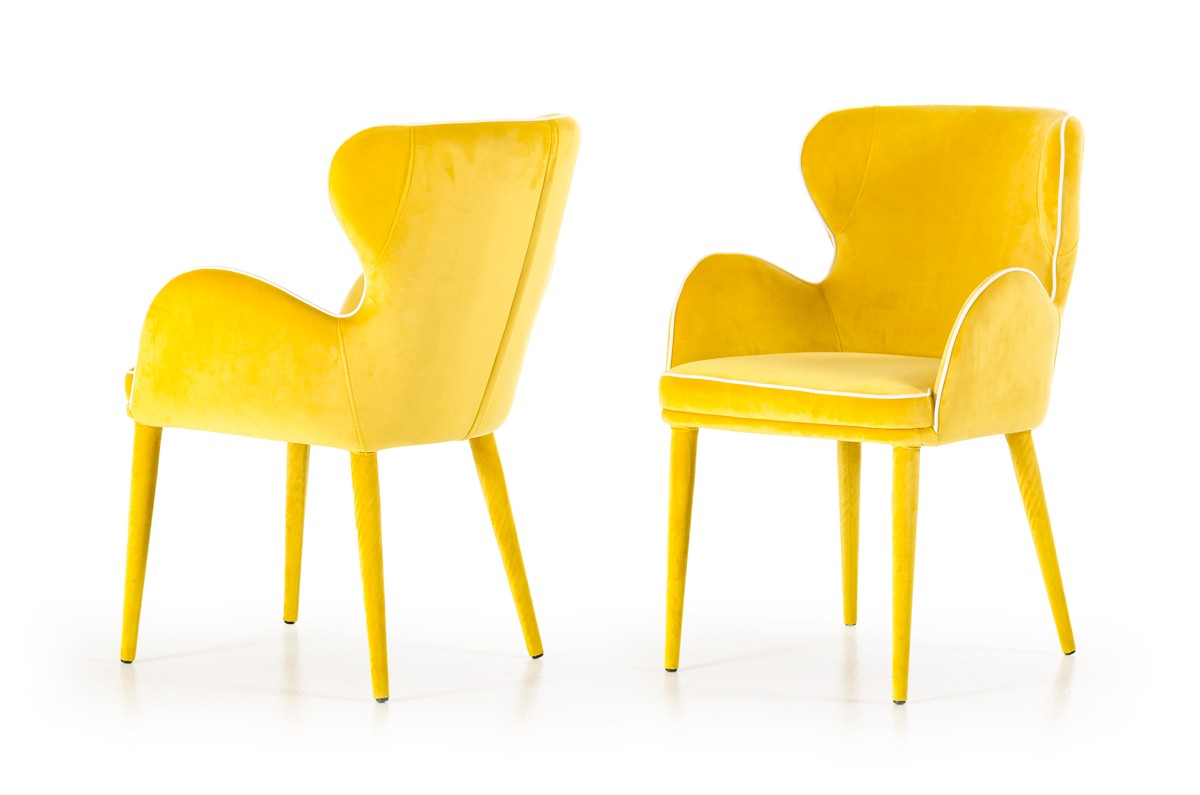chairs: (92, 101, 593, 704), (666, 87, 1084, 700)
